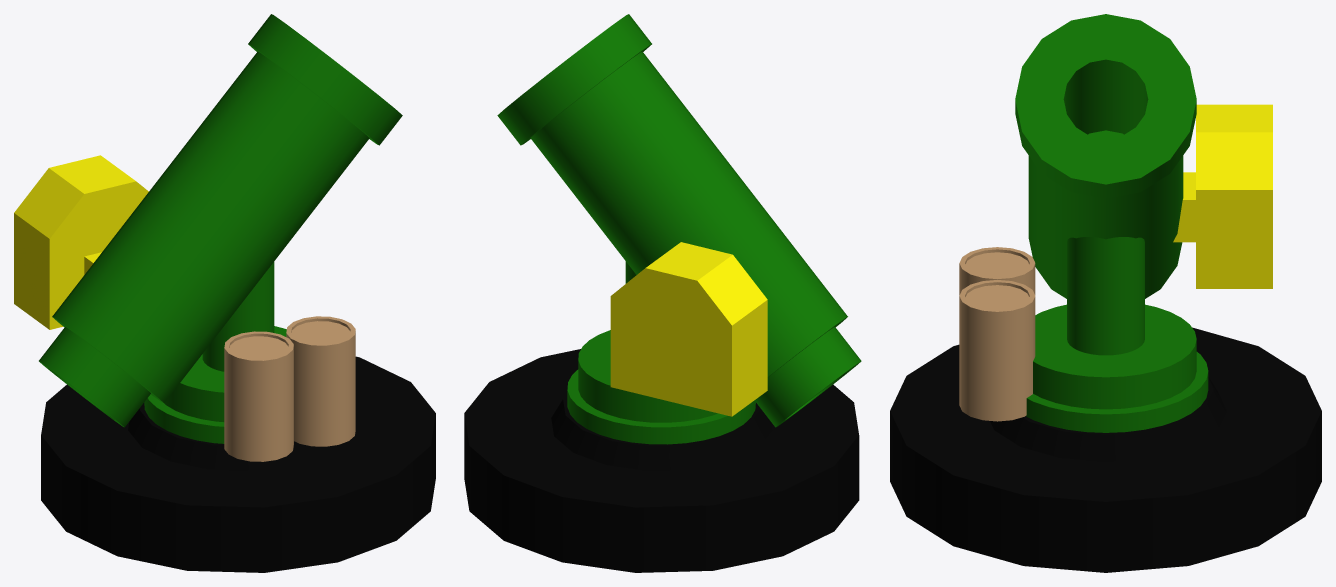
The model's file is support4_1.fbx.
3 views of the same model, side by side, from view 1: azimuth 30°, elevation 25°; view 2: azimuth 150°, elevation 25°; view 3: azimuth 270°, elevation 25° (orthographic). The views are drawn at different scales.
Parts seen in each view (by area): view 1: Cylinder.041, Cylinder.039, Cylinder.042, Cube.029, Cylinder.040; view 2: Cylinder.039, Cylinder.041, Cube.029, Cylinder.040; view 3: Cylinder.039, Cylinder.041, Cylinder.040, Cube.029, Cylinder.042.
Boxes of the visible parts, x1=… form: Cylinder.041: x1=39, y1=14, x2=402, y2=427; Cylinder.039: x1=41, y1=356, x2=435, y2=572; Cylinder.042: x1=224, y1=316, x2=355, y2=461; Cube.029: x1=14, y1=155, x2=148, y2=329; Cylinder.040: x1=144, y1=262, x2=286, y2=443; Cylinder.039: x1=464, y1=349, x2=859, y2=572; Cylinder.041: x1=497, y1=14, x2=861, y2=427; Cube.029: x1=610, y1=242, x2=767, y2=416; Cylinder.040: x1=567, y1=261, x2=755, y2=444; Cylinder.039: x1=890, y1=327, x2=1321, y2=572; Cylinder.041: x1=1015, y1=14, x2=1196, y2=298; Cylinder.040: x1=1026, y1=237, x2=1208, y2=432; Cube.029: x1=1173, y1=104, x2=1272, y2=288; Cylinder.042: x1=959, y1=247, x2=1035, y2=421.
Bounding box in the file's own units: 407 × 487 × 387.
